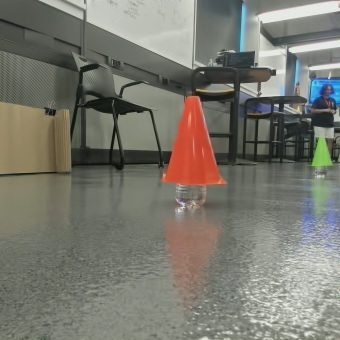Cone: (162, 95, 222, 181)
